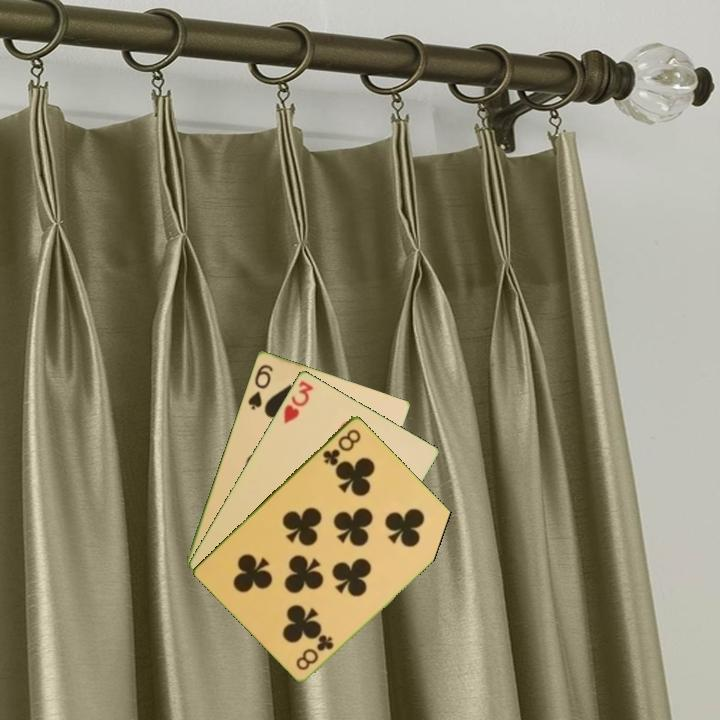3h: (280, 376, 316, 426)
6s: (244, 360, 276, 412)
8c: (319, 425, 364, 468), (292, 631, 337, 673)
